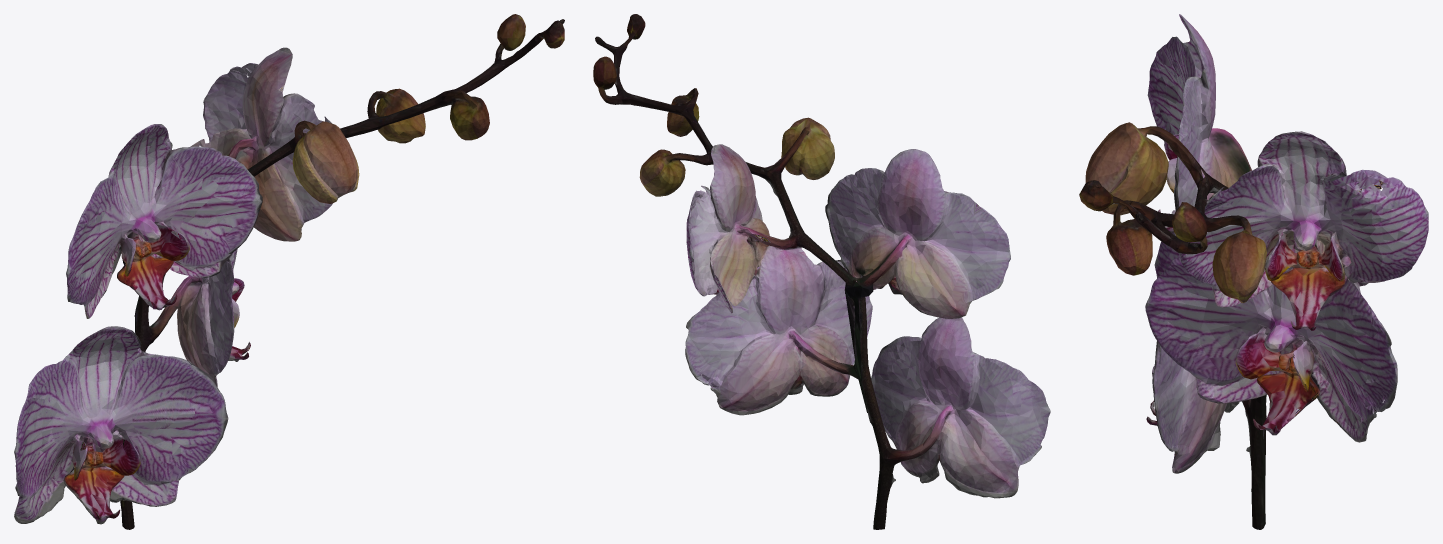
File: Orchid_Highpoly-xxxxxxx.gltf
3 renders of one model, left to right at view 1: azimuth 30°, elevation 25°; view 2: azimuth 150°, elevation 25°; view 3: azimuth 270°, elevation 25°, orthographic. The views are drawn at different scales.
Visible parts, largest first — view 1: Orchid_Highpoly; view 2: Orchid_Highpoly; view 3: Orchid_Highpoly.
Part boxes in pixels (x1,y1,x2,y2): Orchid_Highpoly: (14,14,564,529); Orchid_Highpoly: (593,14,1050,529); Orchid_Highpoly: (1079,14,1428,529).
Size of the model in its own units: 11.24 by 9.28 by 5.33.
Materials: 1 (1 with a texture image).
